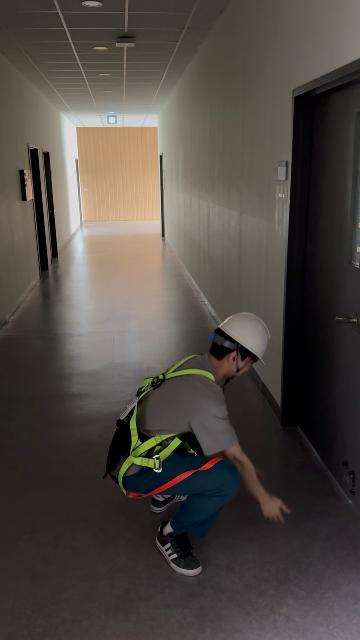helmet_worn: (212, 311, 273, 367)
shoe_not_worn: (156, 521, 201, 576), (150, 491, 188, 513)
vest_worn: (104, 357, 218, 495)
